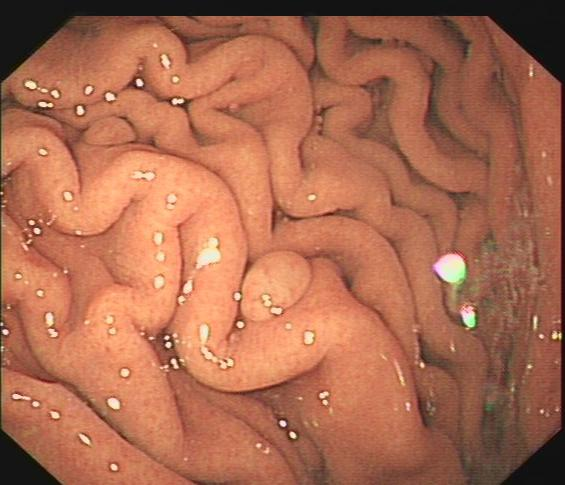Polyp: (225, 234, 331, 328), (70, 101, 144, 173)
